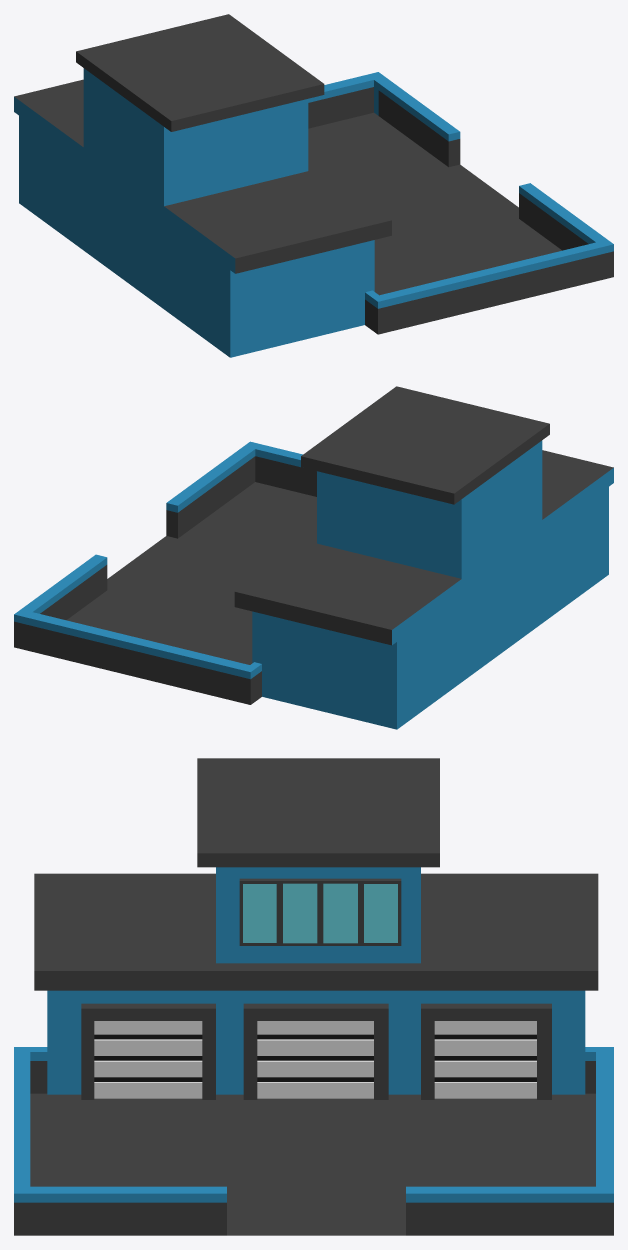
The model's file is DeliveryBuilding.fbx.
The picture shows the model from 3 angles, top to bottom: view 1: azimuth 30°, elevation 25°; view 2: azimuth 150°, elevation 25°; view 3: azimuth 270°, elevation 25°; orthographic projection. The views are drawn at different scales.
Visible parts, largest first — view 1: Plane; view 2: Plane; view 3: Plane.
Part boxes in pixels (x1=…): Plane: x1=14, y1=14, x2=613, y2=357; Plane: x1=14, y1=386, x2=613, y2=729; Plane: x1=14, y1=758, x2=613, y2=1235.
Size of the model in its own units: 5158 by 2576 by 5675.
